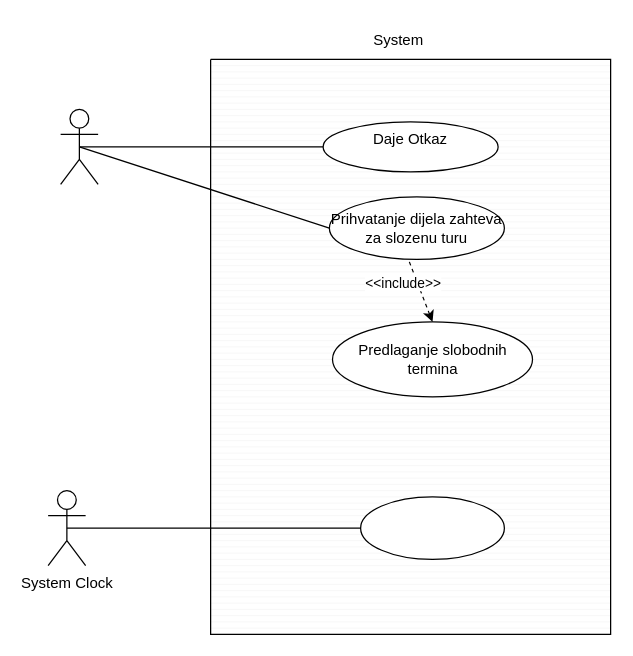
The diagram is 633 pixels wide and 656 high, and some of its shapes have lost their labels. The shapes that lost their labels are listed below. From the top down, each one's box as (x1, y1, x2, y2) in pixels, then its label:
(59, 108, 98, 184): Guide
(359, 496, 504, 559): Verifikacija statusa vodiča
